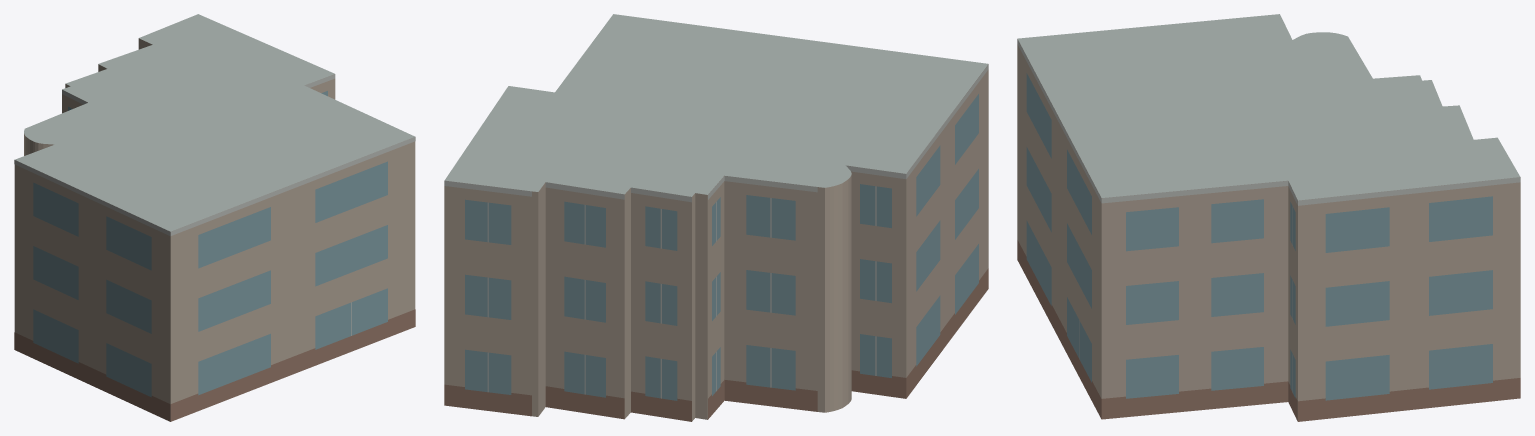
The model's file is survey-upis-33004885.glb.
The picture shows the model from 3 angles, left to right: view 1: azimuth 30°, elevation 25°; view 2: azimuth 150°, elevation 25°; view 3: azimuth 270°, elevation 25°; orthographic projection. The views are drawn at different scales.
Parts seen in each view (by area): view 1: survey-upis-33004885.tmp; view 2: survey-upis-33004885.tmp; view 3: survey-upis-33004885.tmp.
Boxes of the visible parts, <box> form: survey-upis-33004885.tmp: <box>14,14,415,421</box>; survey-upis-33004885.tmp: <box>444,14,988,421</box>; survey-upis-33004885.tmp: <box>1017,14,1520,421</box>.
Size of the model in its own units: 18.45 by 10.2 by 21.02.
